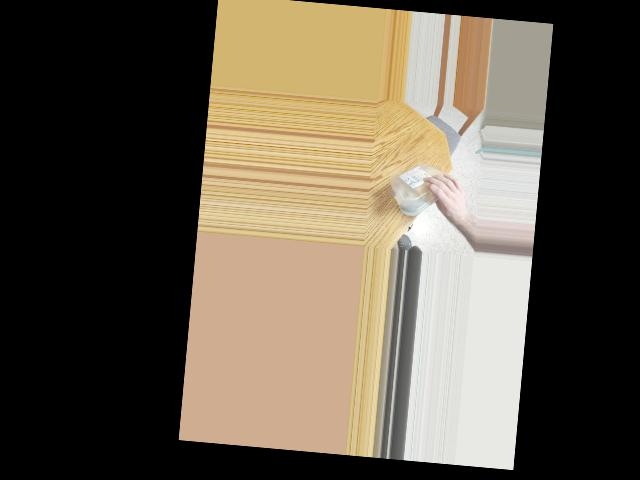cheese: (387, 160, 458, 216)
